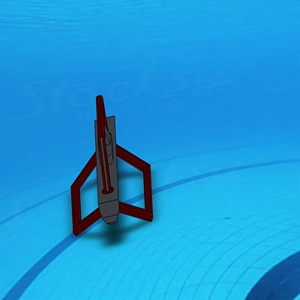submarine: (72, 94, 154, 232)
